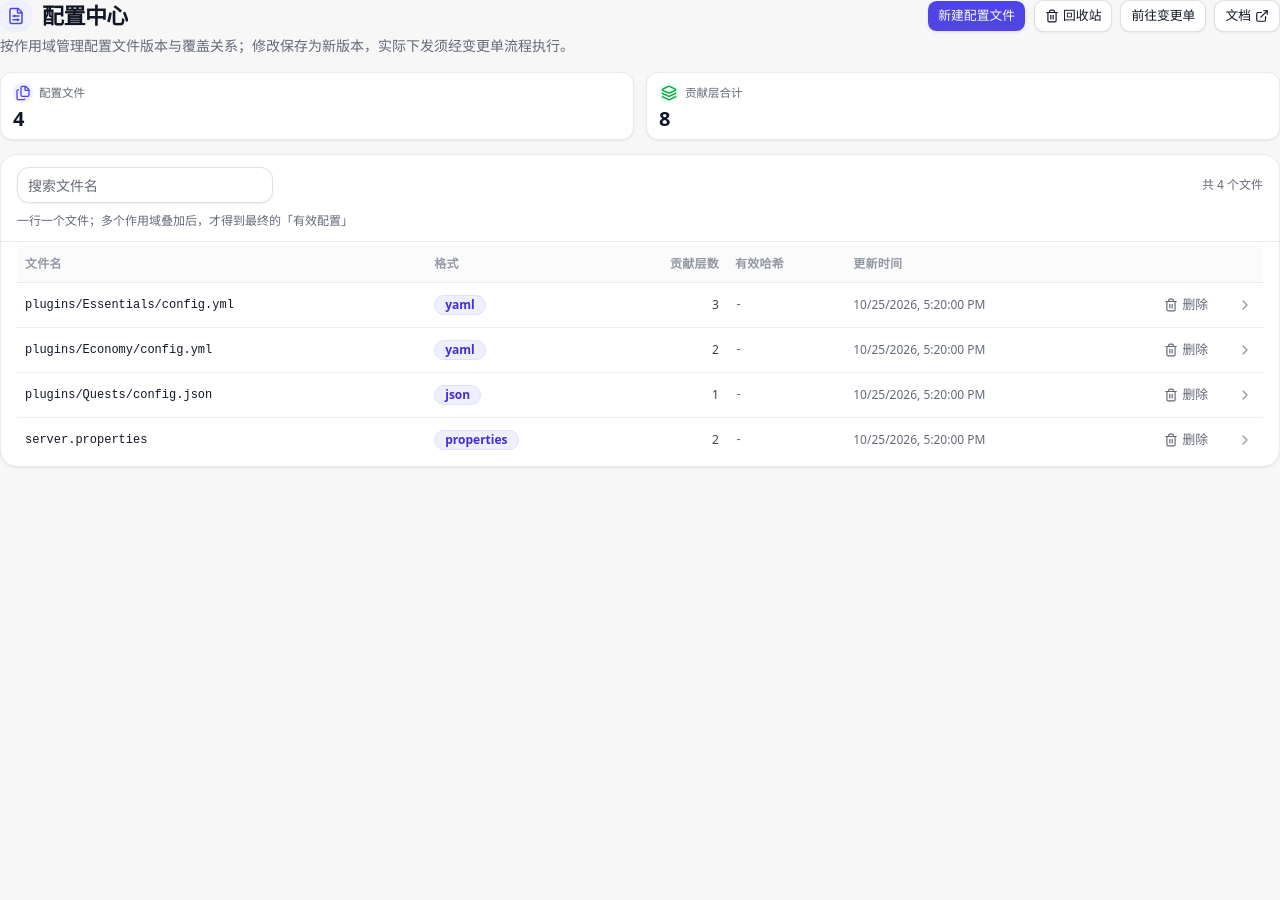
/configs 编辑保存 › 实时校验逐条展示 schema 违例，保存被 400 阻断
This screenshot has width=1280, height=900.
Click the text "plugins/Essentials/config.yml".
click(640, 304)  # box [17,282,1263,327]
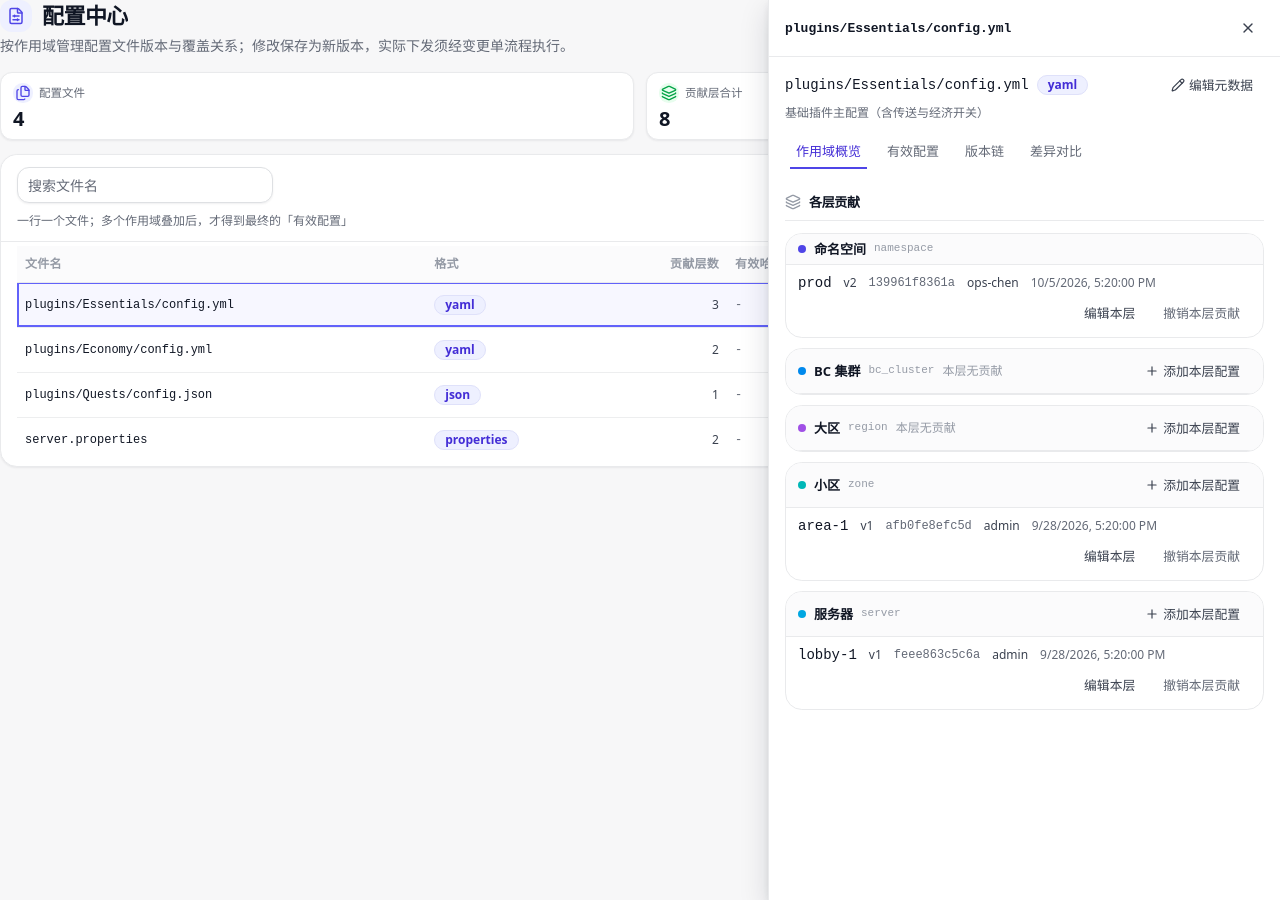
Result: the tab "作用域概览" is shown at [785,133,872,169]
Click the button "编辑本层" below "prod".
click(1110, 313)  # box [1073,297,1146,329]
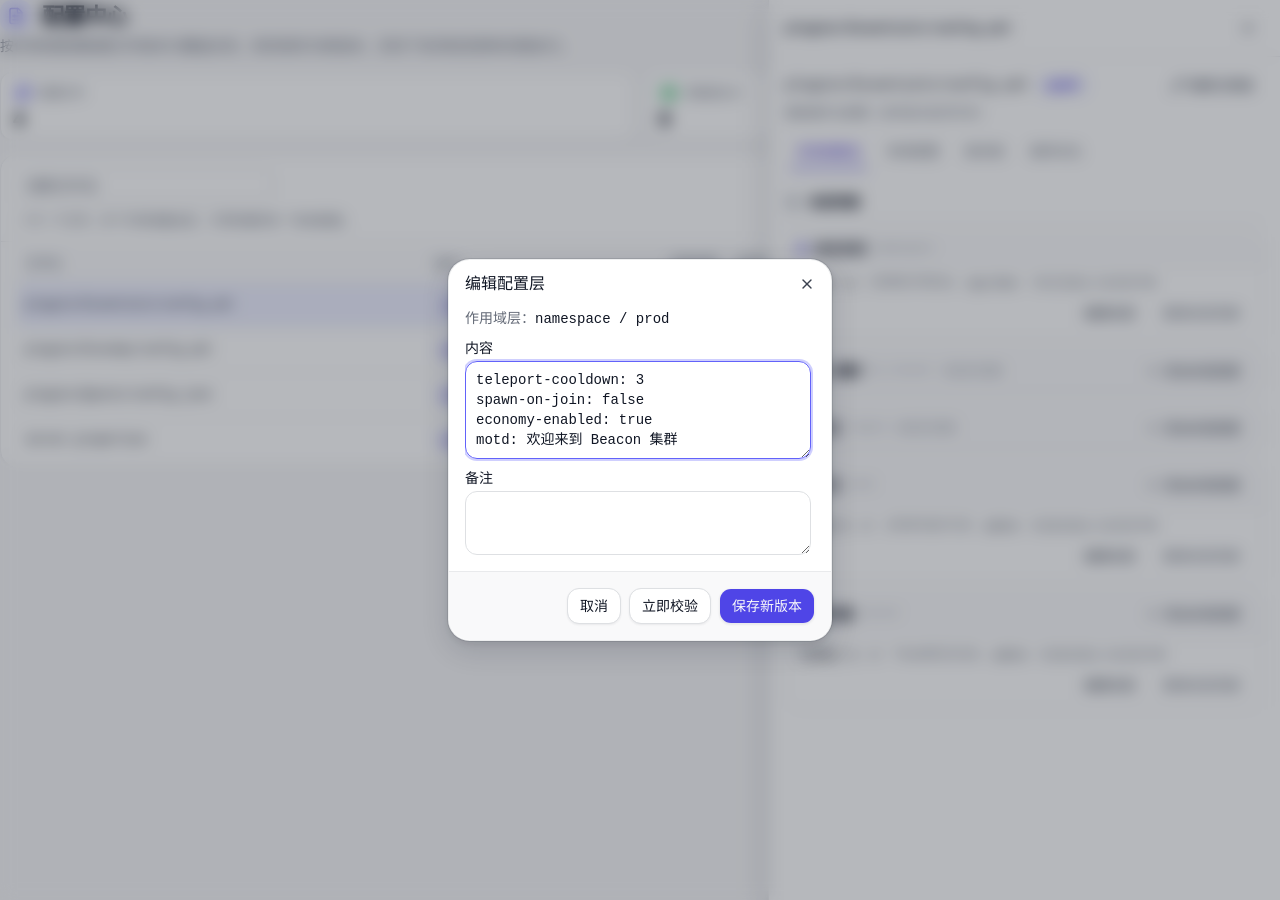
Replace the text in the text box labelled "内容" with "teleport-cooldown: -5" at (638, 410), box [465,361,811,459]
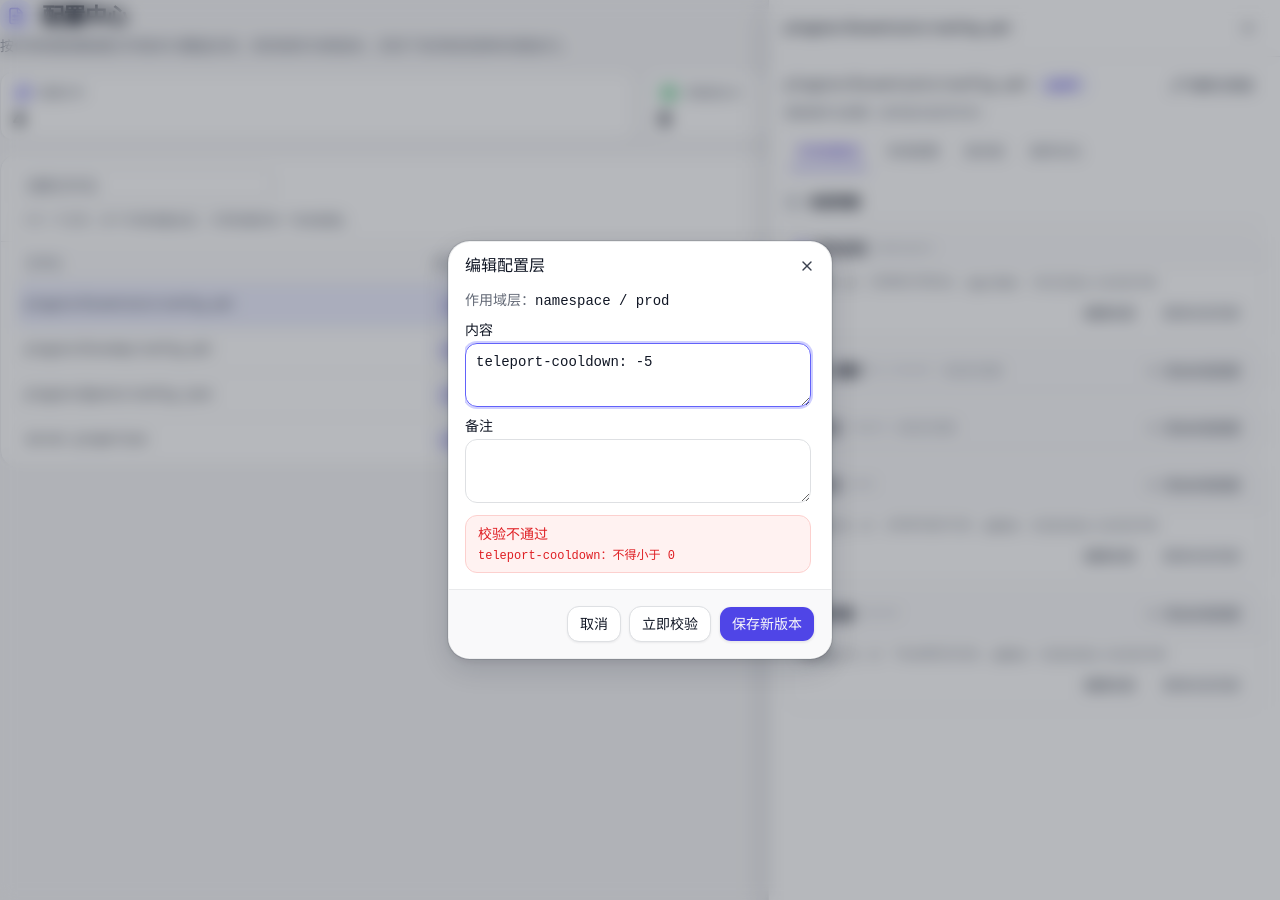
Result: the text "校验不通过" is shown at [478,524,548,543]
Result: the list item "teleport-cooldown：不得小于 0" is shown at [478,549,675,563]
Click the button "保存新版本".
click(767, 624)  # box [719,606,815,642]
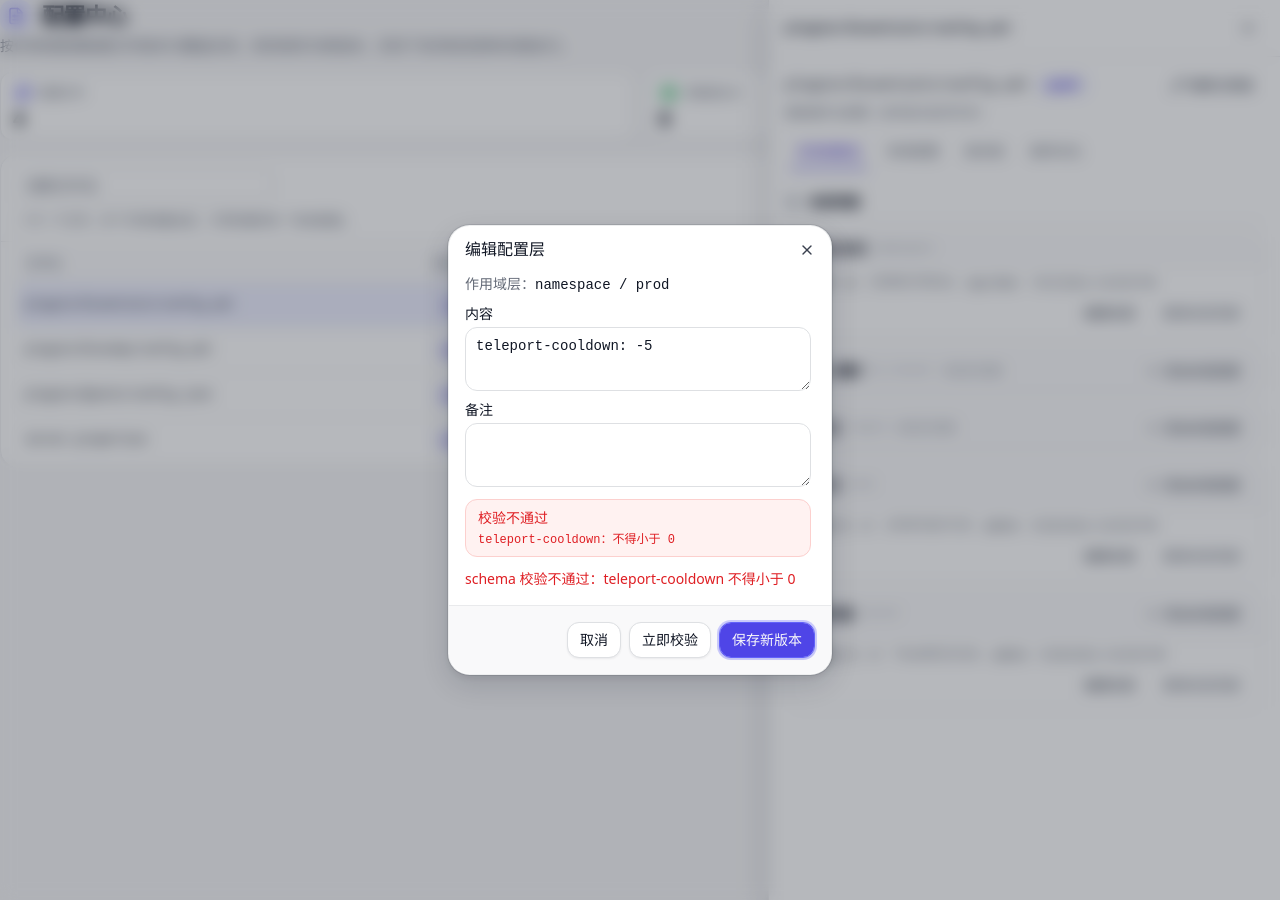
Result: the text "schema 校验不通过：teleport-cooldown 不得小于 0" is shown at [465,569,811,589]
